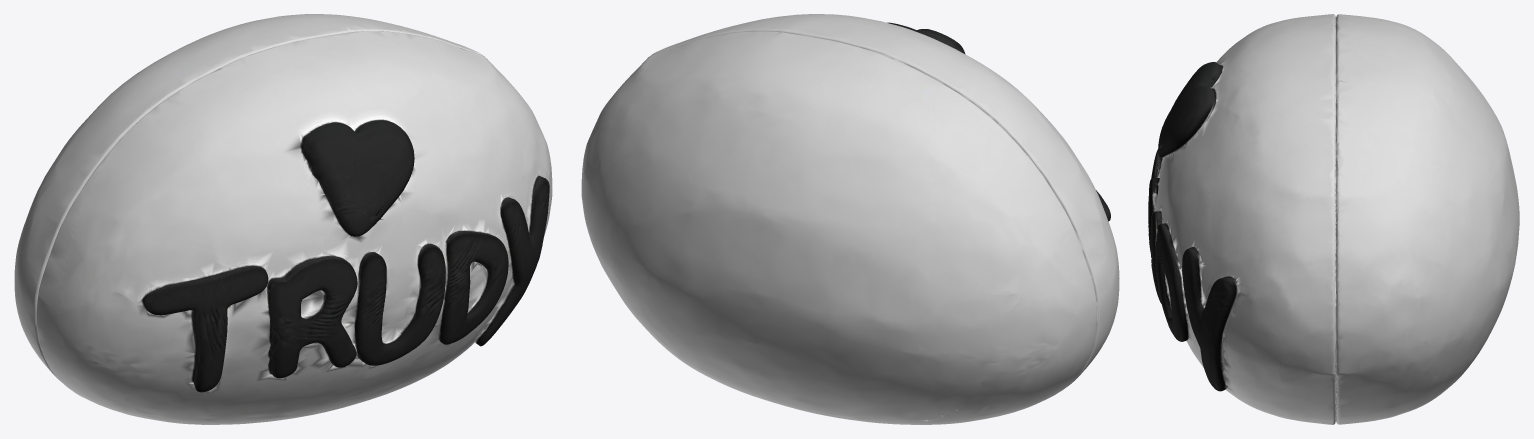
The model's file is sasso-trudy-3d-model.glb.
3 renders of one model, left to right at view 1: azimuth 30°, elevation 25°; view 2: azimuth 150°, elevation 25°; view 3: azimuth 270°, elevation 25°, orthographic. The views are drawn at different scales.
Visible parts, largest first — view 1: tripo_node_b56dc673-4992-4b38-9ec5-28dc0ff60b23; view 2: tripo_node_b56dc673-4992-4b38-9ec5-28dc0ff60b23; view 3: tripo_node_b56dc673-4992-4b38-9ec5-28dc0ff60b23.
Boxes of the visible parts, box(x1,y1,x2,y2) form: tripo_node_b56dc673-4992-4b38-9ec5-28dc0ff60b23: box(14, 14, 552, 424); tripo_node_b56dc673-4992-4b38-9ec5-28dc0ff60b23: box(581, 14, 1119, 424); tripo_node_b56dc673-4992-4b38-9ec5-28dc0ff60b23: box(1148, 14, 1519, 424).
Size of the model in its own units: 0.9799 by 0.6537 by 0.6566.
1 material, 1 textured.
